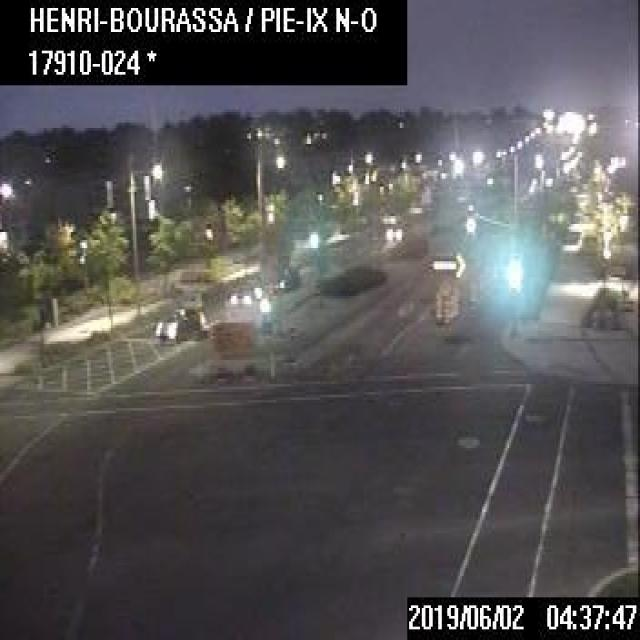construction: (192, 304, 272, 384), (431, 245, 464, 318), (434, 289, 441, 321), (442, 296, 449, 322), (449, 292, 456, 317)
vehicle: (154, 304, 202, 341), (270, 264, 298, 288), (230, 284, 252, 303)
